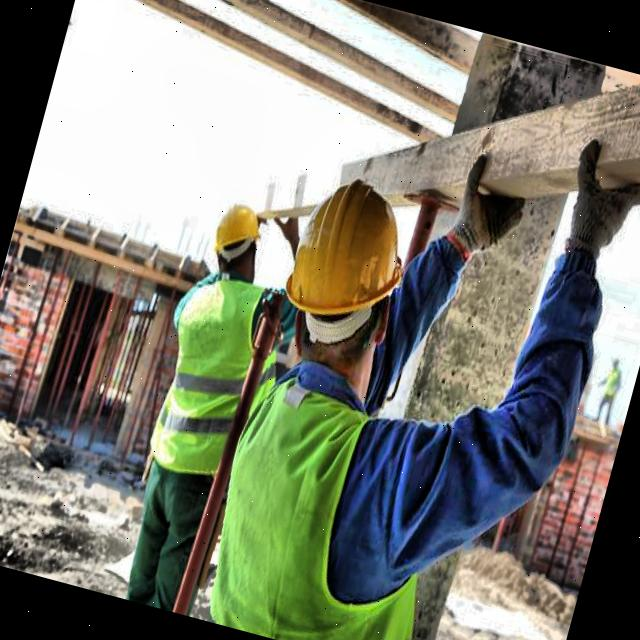helmet: (256, 154, 436, 376), (193, 182, 276, 290)
